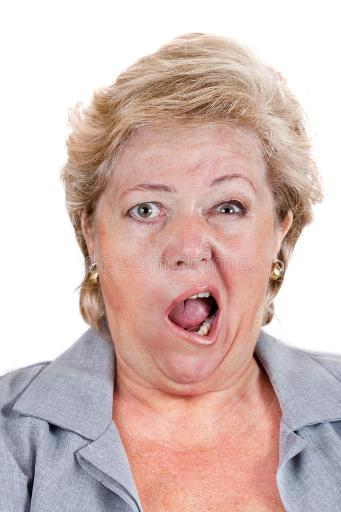left_eye: (208, 199, 250, 222)
left_lip_corner: (215, 303, 223, 321)
right_eye: (124, 200, 170, 227)
right_lip_corner: (165, 311, 175, 332)
